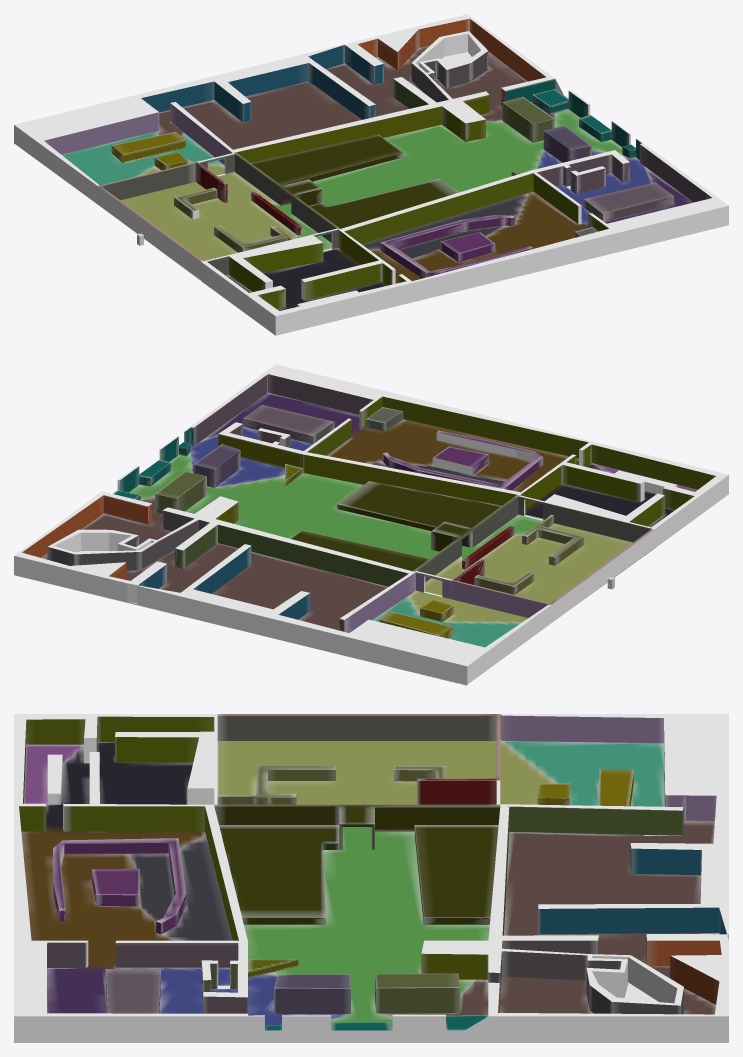
File: Theater.gltf
3 views of the same model, one above another, from view 1: azimuth 30°, elevation 25°; view 2: azimuth 150°, elevation 25°; view 3: azimuth 270°, elevation 25° (orthographic). The views are drawn at different scales.
Parts seen in each view (by area): view 1: Theater-col; view 2: Theater-col; view 3: Theater-col.
Part boxes in pixels (left/top/right/bottom): Theater-col: left=14, top=14, right=728, bottom=335; Theater-col: left=14, top=364, right=728, bottom=685; Theater-col: left=14, top=714, right=728, bottom=1042.
Bounding box in the file's own units: 102 × 4.1 × 100.
1 material, 1 textured.
